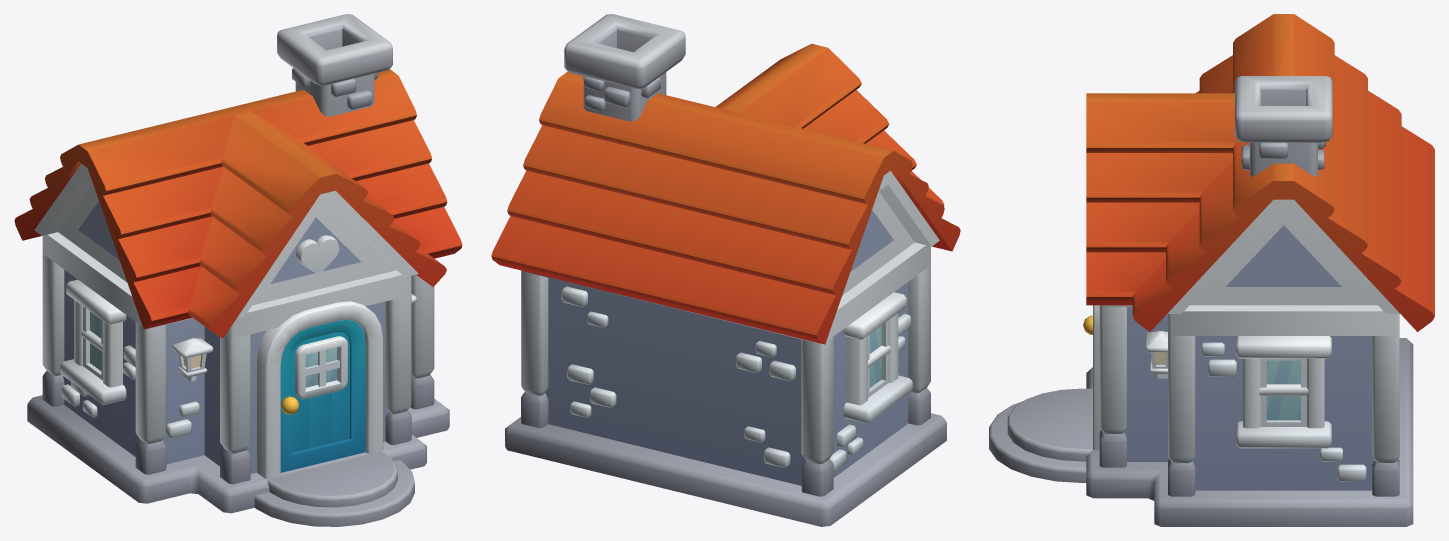
Rendered from House.glb.
3 renders of one model, left to right at view 1: azimuth 30°, elevation 25°; view 2: azimuth 150°, elevation 25°; view 3: azimuth 270°, elevation 25°, orthographic. The views are drawn at different scales.
Parts seen in each view (by area): view 1: house, house_door, house_chimney, house_heart; view 2: house, house_chimney; view 3: house, house_chimney.
Boxes of the visible parts, bbox=[...] form: house: bbox=[14, 69, 462, 526]; house_door: bbox=[280, 320, 365, 472]; house_chimney: bbox=[277, 14, 392, 116]; house_heart: bbox=[296, 235, 339, 272]; house: bbox=[491, 43, 960, 526]; house_chimney: bbox=[564, 14, 685, 121]; house: bbox=[989, 14, 1434, 526]; house_chimney: bbox=[1235, 76, 1332, 176].
Size of the model in its own units: 5.9 by 6.5 by 6.54.
Materials: 1 (1 with a texture image).
